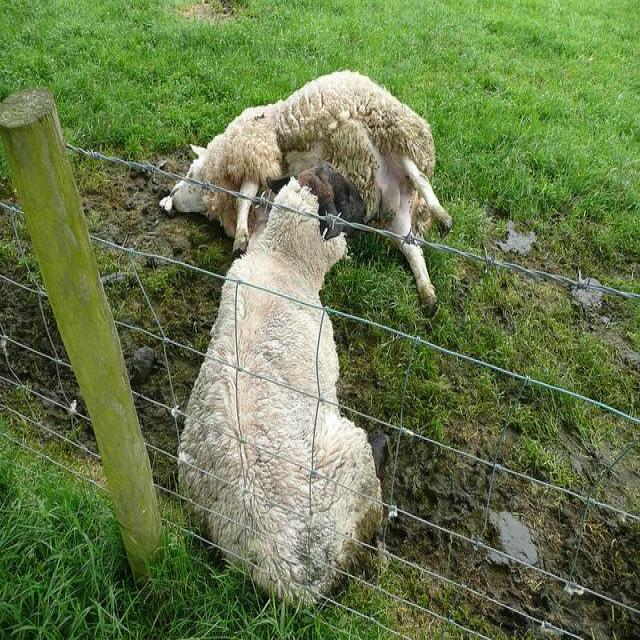Sheep: (171, 161, 391, 612), (160, 72, 451, 317)
